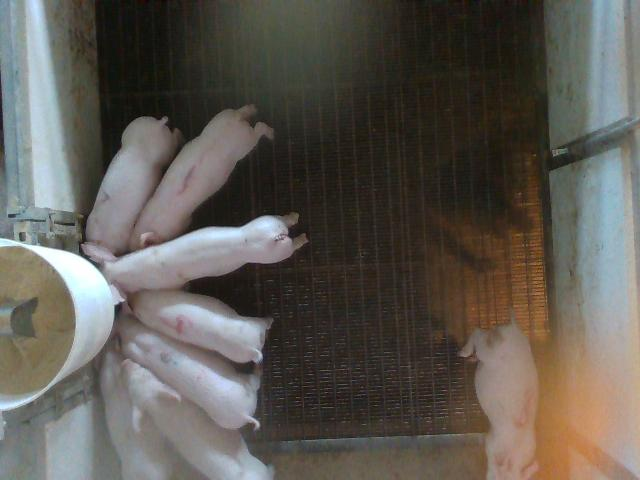pig-1: (129, 105, 274, 251)
pig-3: (460, 319, 539, 478)
pig-4: (129, 289, 272, 362)
